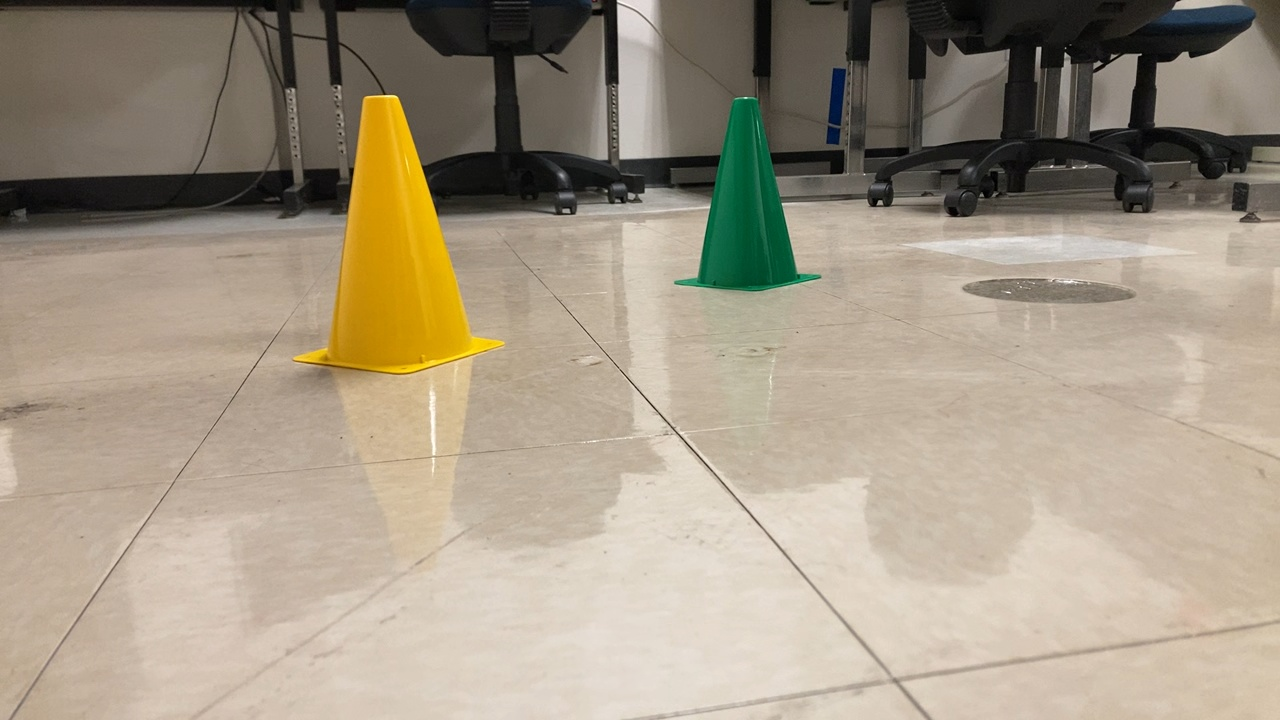green_cone: (663, 88, 830, 297)
yellow_cone: (290, 92, 509, 384)
